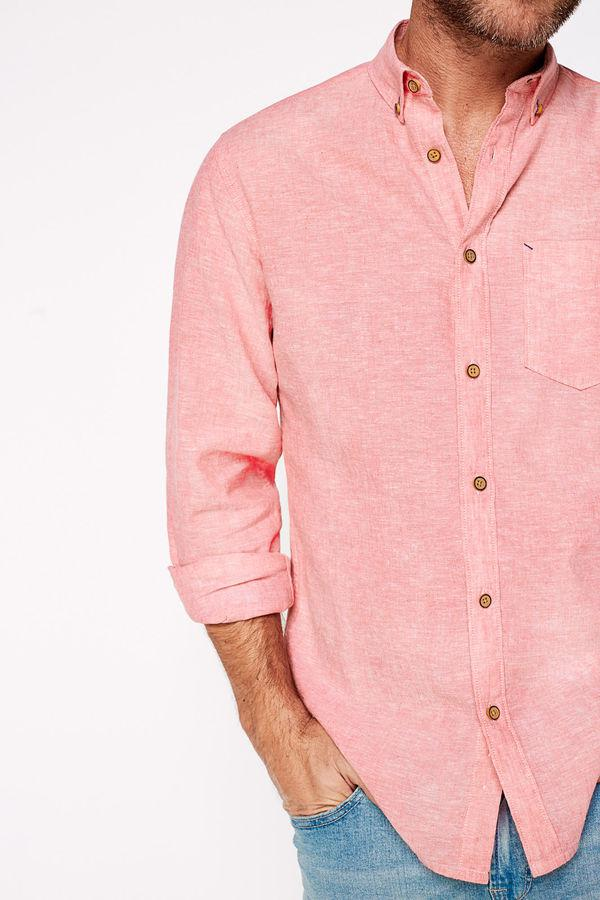teeshirt: (153, 12, 600, 861)
